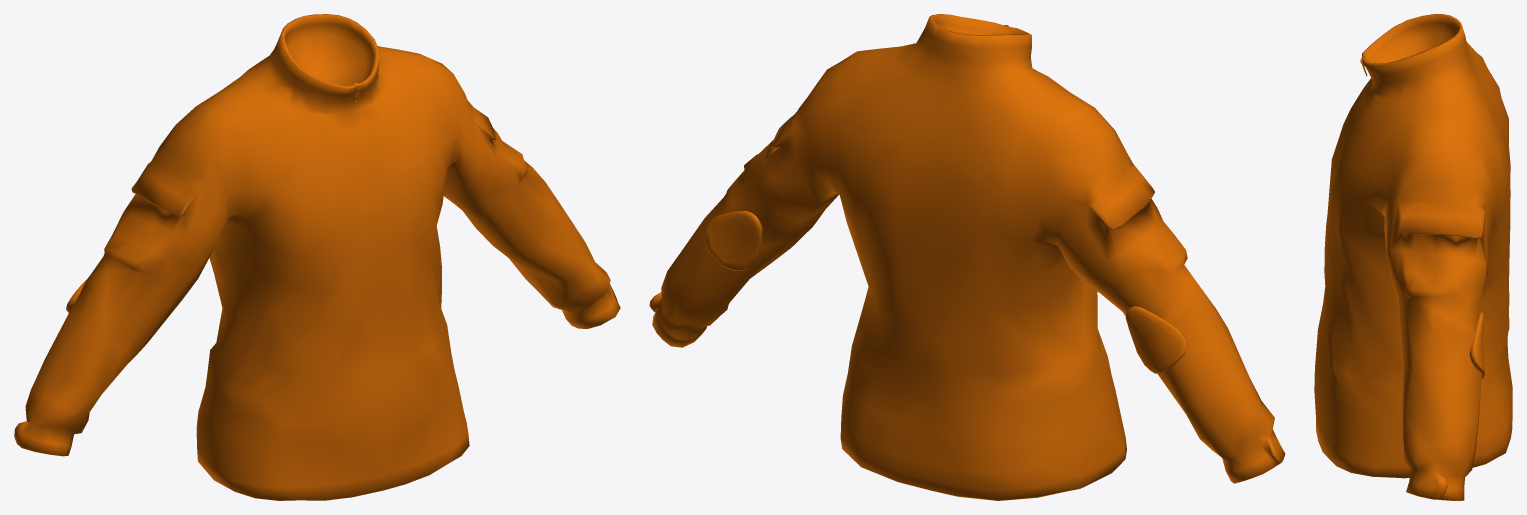
The picture shows the model from 3 angles, left to right: view 1: azimuth 30°, elevation 25°; view 2: azimuth 150°, elevation 25°; view 3: azimuth 270°, elevation 25°; orthographic projection. The views are drawn at different scales.
Visible parts, largest first — view 1: hash_57A9CA91.model; view 2: hash_57A9CA91.model; view 3: hash_57A9CA91.model.
Boxes of the visible parts, x1,y1,x2,y2 form: hash_57A9CA91.model: [14, 14, 620, 500]; hash_57A9CA91.model: [649, 14, 1285, 500]; hash_57A9CA91.model: [1314, 14, 1512, 500].
Bounding box in the file's own units: 1.09 × 0.7329 × 0.3276.
